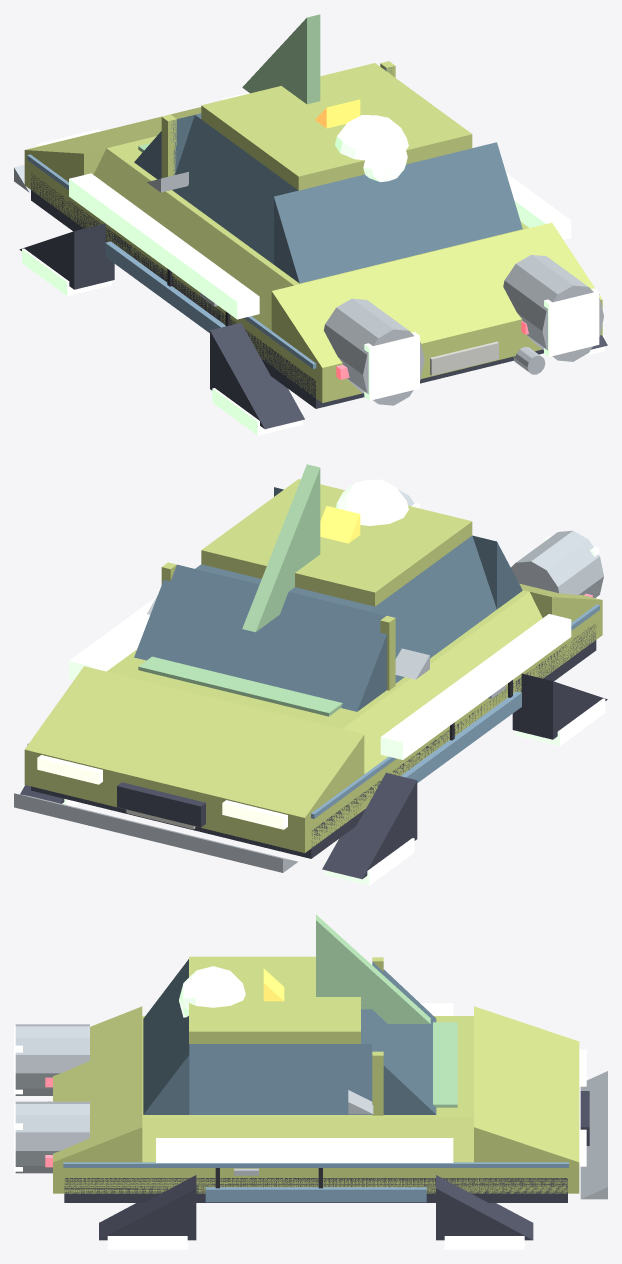
Rendered from laser_lotus.glb.
3 renders of one model, top to bottom at view 1: azimuth 30°, elevation 25°; view 2: azimuth 150°, elevation 25°; view 3: azimuth 270°, elevation 25°, orthographic. The views are drawn at different scales.
Parts seen in each view (by area): view 1: RearWindow.203, Tail.103, Roof.303, Body.303, CabinSideL.100, FloatFin-1.045, ShoulderL.100, HoverPodWheel_RL.045, Sill.299, Thruster1.045, Thruster-1.045, BridgeFin.013 (+16 smaller); view 2: Nose.100, Windshield.203, Roof.303, Body.303, CabinSideL.100, FloatFin-1.045, ShoulderL.100, HoverPodWheel_FL.045, BridgeFin.013, Bumper.299, Thruster-1.045, Sill.299 (+18 smaller); view 3: Nose.100, CabinSideR.100, Body.303, Roof.303, Tail.103, ShoulderR.100, FloatFin1.045, Sill.299, RearWindow.203, Windshield.203, BridgeFin.013, Thruster1.045 (+15 smaller).
Part boxes in pixels (x1,y1,x2,y2): RearWindow.203: (274, 142, 522, 283); Tail.103: (271, 222, 602, 367); Roof.303: (201, 63, 472, 190); Body.303: (24, 150, 602, 402); CabinSideL.100: (172, 115, 297, 264); FloatFin-1.045: (69, 173, 259, 319); ShoulderL.100: (93, 148, 293, 330); HoverPodWheel_RL.045: (210, 323, 304, 429); Sill.299: (31, 173, 543, 408); Thruster1.045: (503, 255, 603, 361); Thruster-1.045: (324, 298, 424, 405); BridgeFin.013: (242, 14, 320, 104); Nose.100: (25, 666, 364, 817); Windshield.203: (134, 564, 386, 711); Roof.303: (201, 479, 472, 606); Body.303: (24, 600, 602, 852); CabinSideL.100: (369, 536, 496, 683); FloatFin-1.045: (380, 614, 571, 759); ShoulderL.100: (342, 592, 542, 773); HoverPodWheel_FL.045: (322, 772, 417, 879); BridgeFin.013: (242, 464, 320, 632); Bumper.299: (14, 793, 297, 872); Thruster-1.045: (511, 530, 603, 597); Sill.299: (31, 624, 596, 858); Nose.100: (474, 1006, 579, 1162); CabinSideR.100: (189, 1044, 372, 1114); Body.303: (53, 1162, 579, 1193); Roof.303: (189, 956, 360, 1043); Tail.103: (53, 1006, 142, 1162); ShoulderR.100: (142, 1117, 473, 1162); FloatFin1.045: (156, 1138, 453, 1162); Sill.299: (64, 1178, 567, 1202); RearWindow.203: (143, 959, 189, 1114); Windshield.203: (372, 961, 436, 1114); BridgeFin.013: (316, 914, 430, 1023); Thruster1.045: (15, 1101, 89, 1173).
Bounding box in the file's own units: 3.1 × 2.48 × 5.19.
